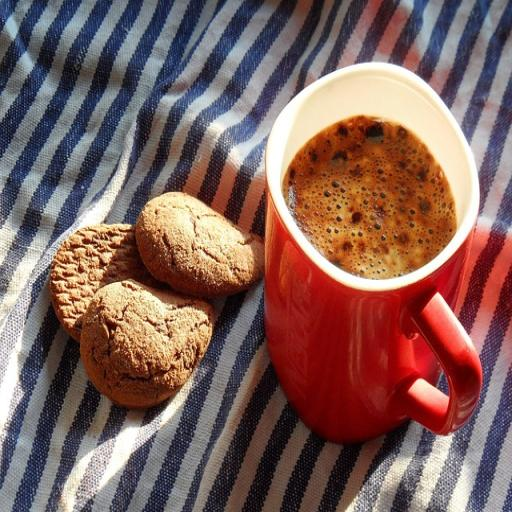cup: (265, 61, 482, 447)
